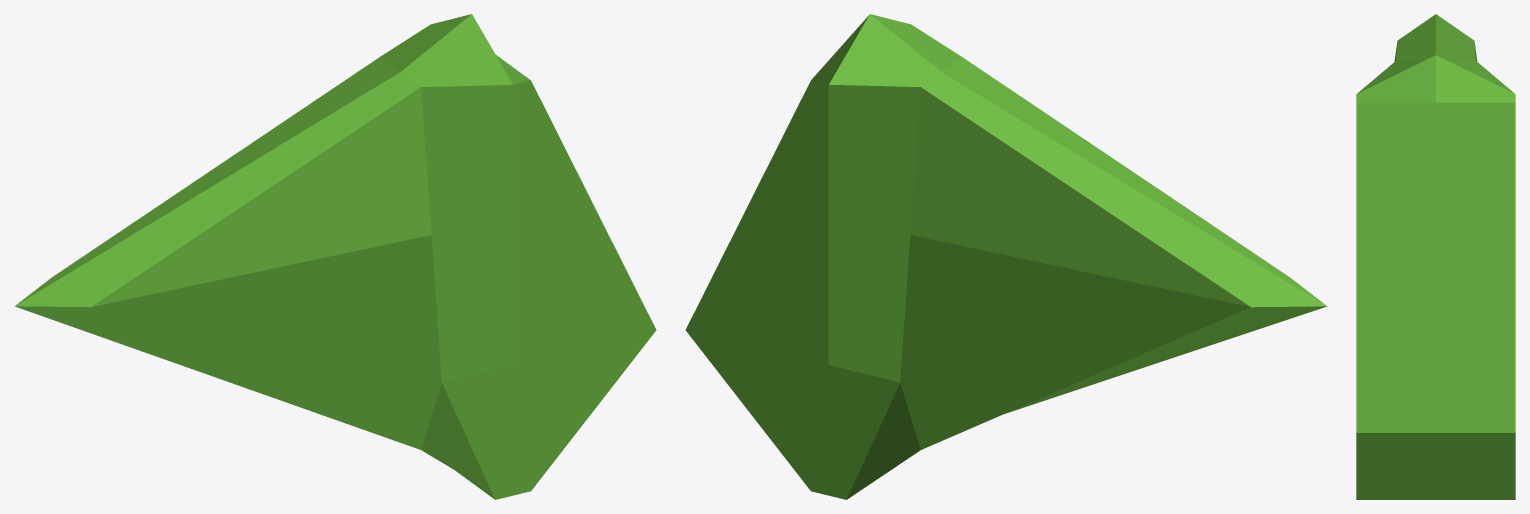
The model's file is raygun.glb.
3 renders of one model, left to right at view 1: azimuth 30°, elevation 25°; view 2: azimuth 150°, elevation 25°; view 3: azimuth 270°, elevation 25°, orthographic. The views are drawn at different scales.
Visible parts, largest first — view 1: Cube; view 2: Cube; view 3: Cube.
Boxes of the visible parts, x1=… form: Cube: x1=14, y1=14, x2=656, y2=499; Cube: x1=685, y1=14, x2=1327, y2=499; Cube: x1=1356, y1=14, x2=1515, y2=499.
Bounding box in the file's own units: 1.68 × 1.21 × 0.4.
